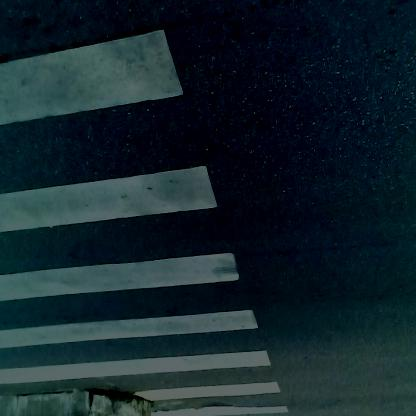crosswalk: (1, 2, 292, 411)
